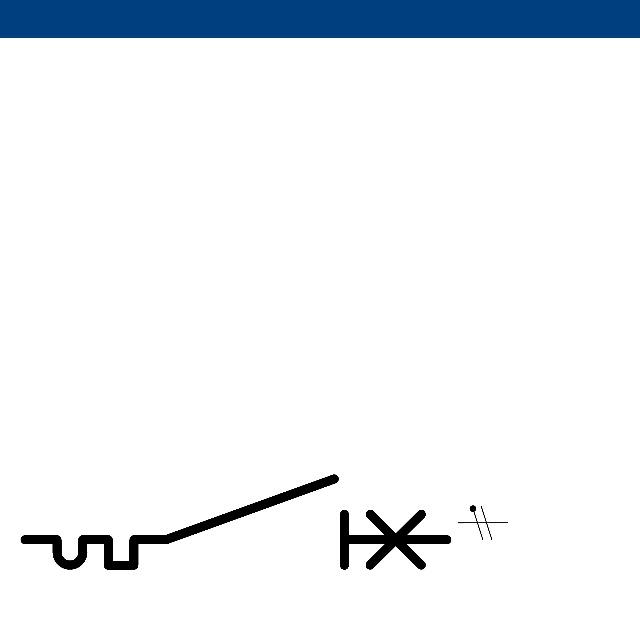interruptor_termomagnetico: (14, 468, 458, 576)
